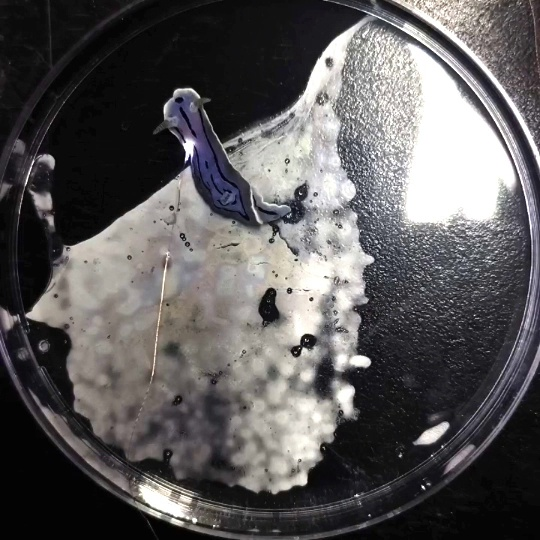sea-slug: (73, 101, 249, 220)
